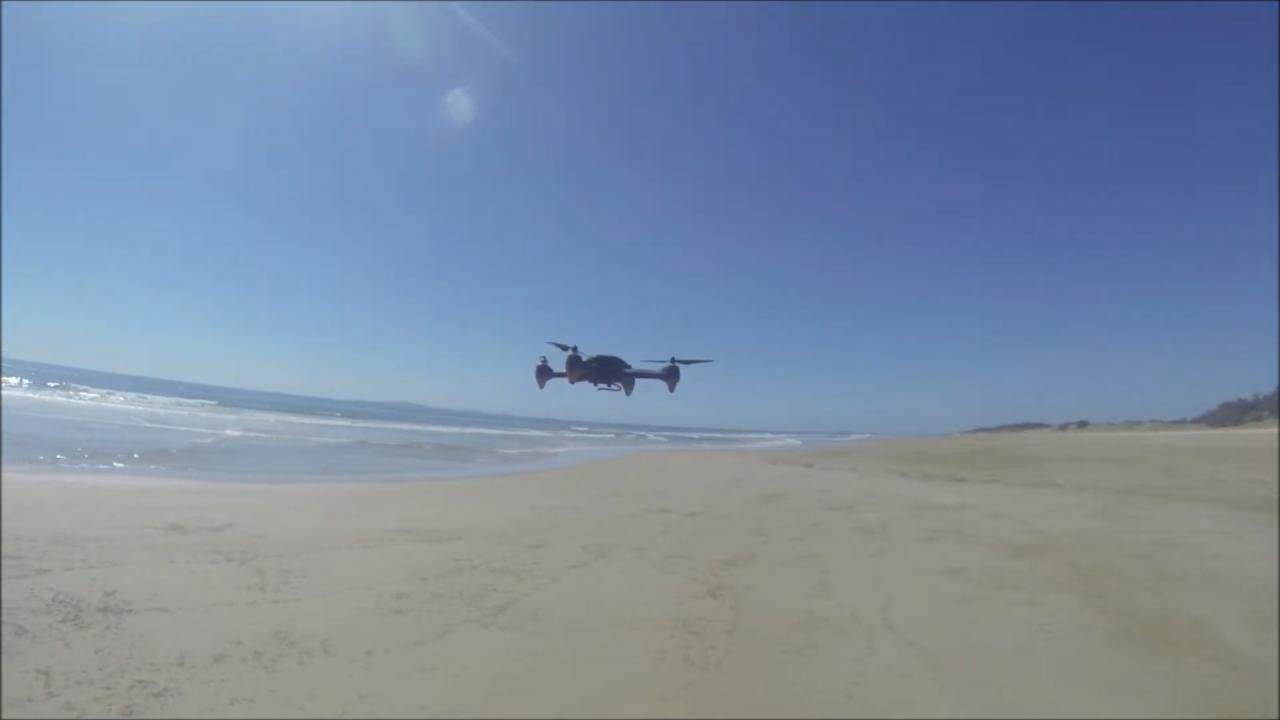Drone: (520, 333, 724, 405)
